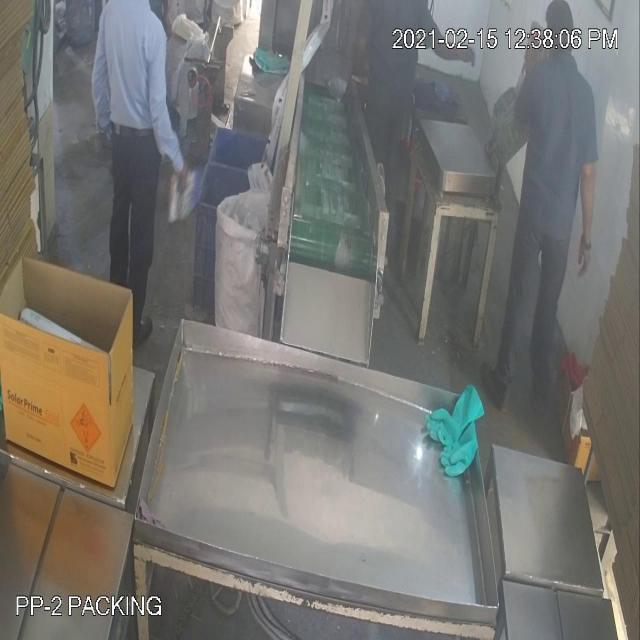No_Gloves: (24, 118, 587, 216)
